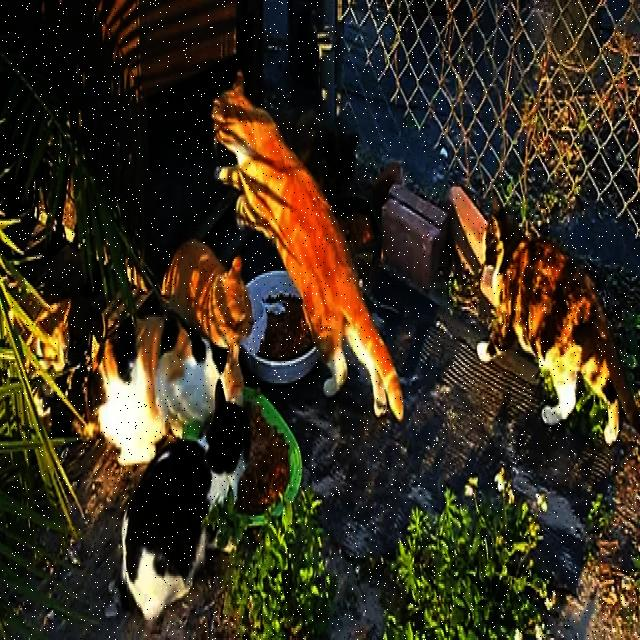cat: (211, 75, 404, 419), (479, 216, 640, 443), (121, 381, 250, 621), (86, 316, 242, 465), (161, 238, 252, 356), (275, 107, 357, 198)
